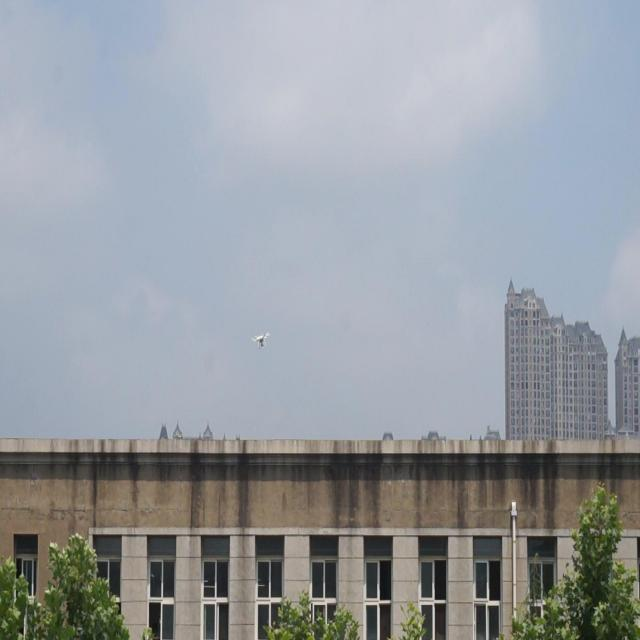UAV: (251, 331, 270, 349)
